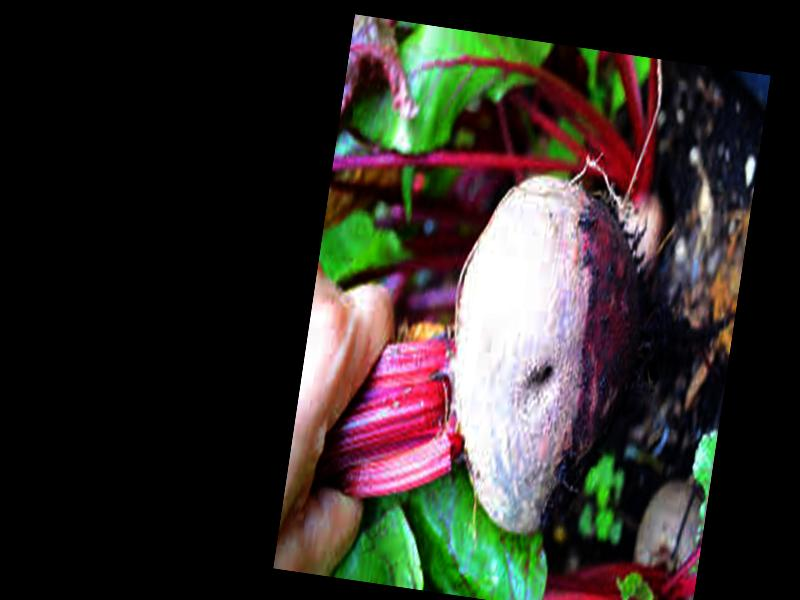Beet: (311, 145, 752, 559)
